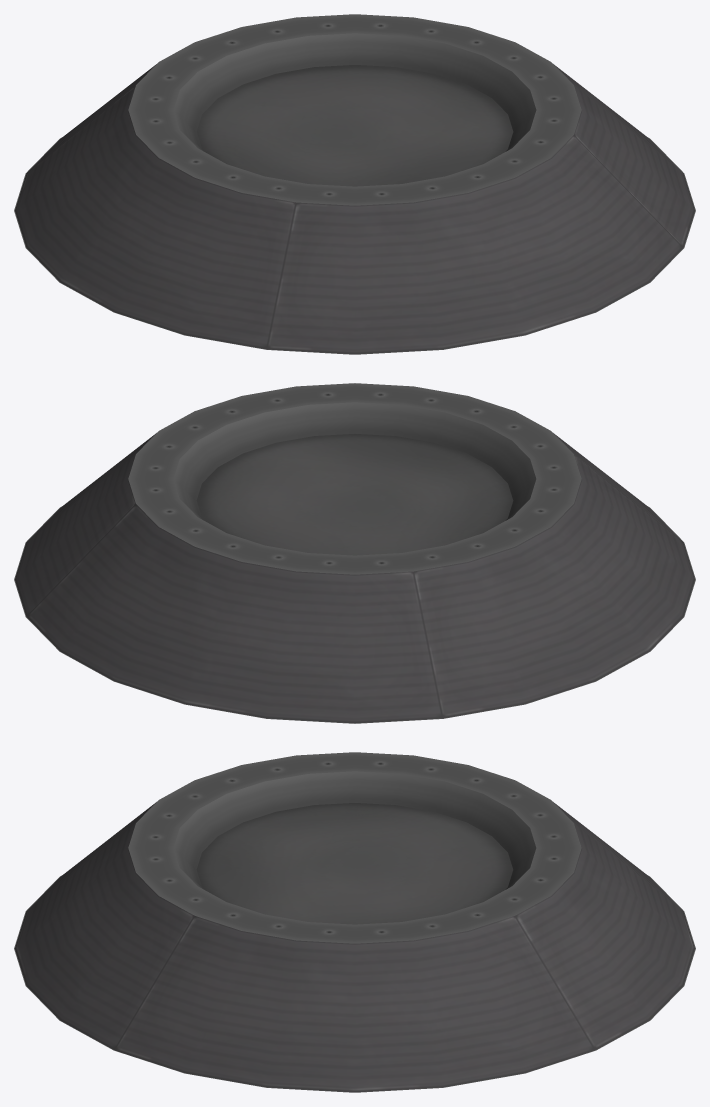
Rendered from Gemini_ShortSmallAdapter.dae.
3 views of the same model, one above another, from view 1: azimuth 30°, elevation 25°; view 2: azimuth 150°, elevation 25°; view 3: azimuth 270°, elevation 25° (orthographic).
Parts seen in each view (by area): view 1: SmallGeminiAdapter2, Gemini_RCS_A_Gemini_RCS_A_auv2, Gemini_Crew_A_Gemini_Crew_A_auv2; view 2: SmallGeminiAdapter2, Gemini_RCS_A_Gemini_RCS_A_auv2, Gemini_Crew_A_Gemini_Crew_A_auv2; view 3: SmallGeminiAdapter2, Gemini_RCS_A_Gemini_RCS_A_auv2, Gemini_Crew_A_Gemini_Crew_A_auv2.
Part boxes in pixels (x1=…): SmallGeminiAdapter2: x1=15, y1=64, x2=694, y2=354; Gemini_RCS_A_Gemini_RCS_A_auv2: x1=128, y1=14, x2=581, y2=205; Gemini_Crew_A_Gemini_Crew_A_auv2: x1=14, y1=137, x2=695, y2=354; SmallGeminiAdapter2: x1=15, y1=433, x2=694, y2=723; Gemini_RCS_A_Gemini_RCS_A_auv2: x1=128, y1=383, x2=581, y2=574; Gemini_Crew_A_Gemini_Crew_A_auv2: x1=14, y1=506, x2=695, y2=723; SmallGeminiAdapter2: x1=15, y1=802, x2=694, y2=1092; Gemini_RCS_A_Gemini_RCS_A_auv2: x1=128, y1=752, x2=581, y2=943; Gemini_Crew_A_Gemini_Crew_A_auv2: x1=14, y1=875, x2=695, y2=1092.
Size of the model in its own units: 0.94 by 0.1532 by 0.94.
